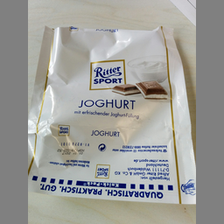chocolate: (37, 28, 192, 205)
